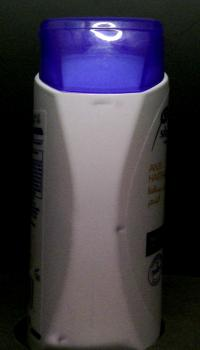dent_marginal: (100, 216, 156, 238), (42, 318, 79, 350), (76, 93, 126, 116)
